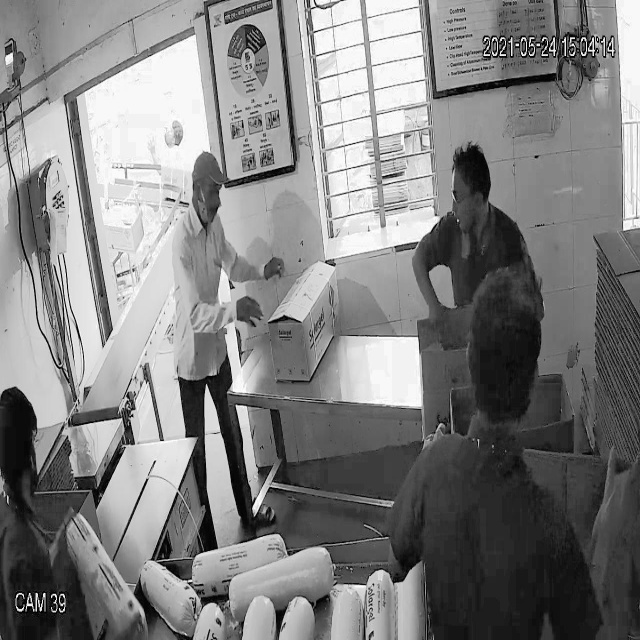Gafas: (448, 180, 487, 211)
Sin_gafas: (187, 177, 227, 206)
